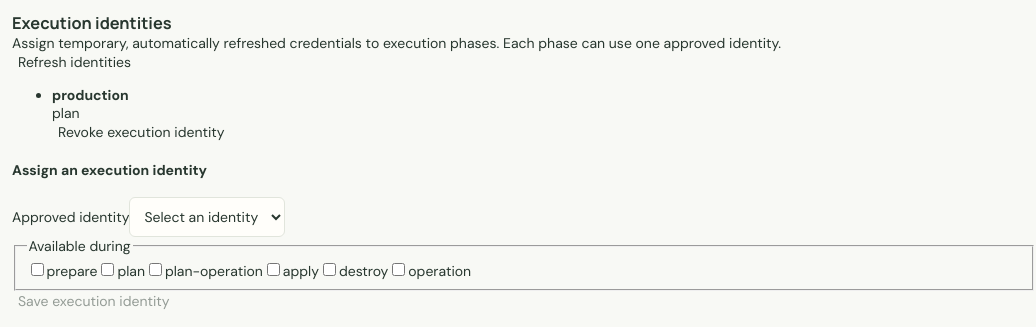
Test: keeps saving disabled until an identity and phase are selected
Check: the submit button is disabled, box [12, 291, 176, 311]
Select "production" in the dropdown labelled "Approved identity" at coordinates (207, 217), box [129, 197, 285, 237]
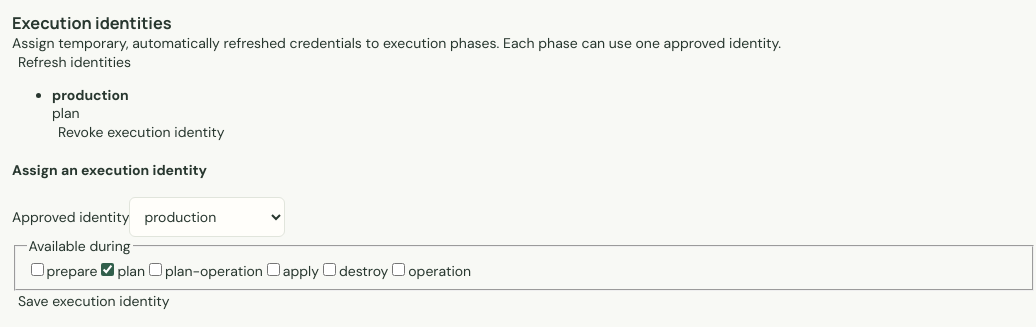
Click the checkbox labelled "plan" at coordinates (108, 270), box [101, 263, 114, 276]
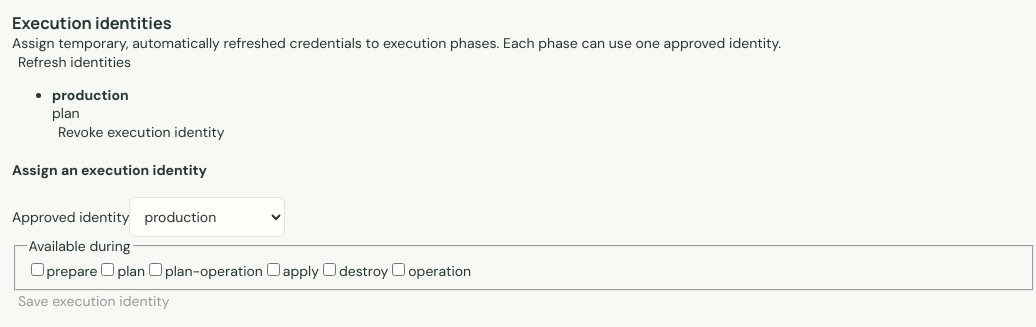
Check: the submit button is disabled, box [12, 291, 176, 311]
